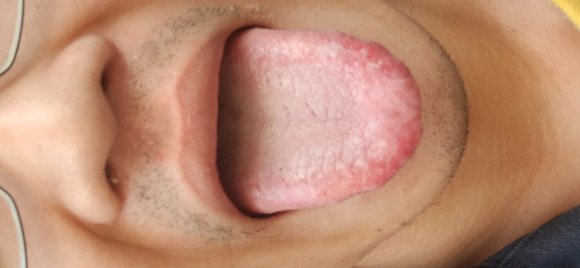baitaishe: (222, 26, 423, 214)
hongshe: (222, 26, 423, 214)
